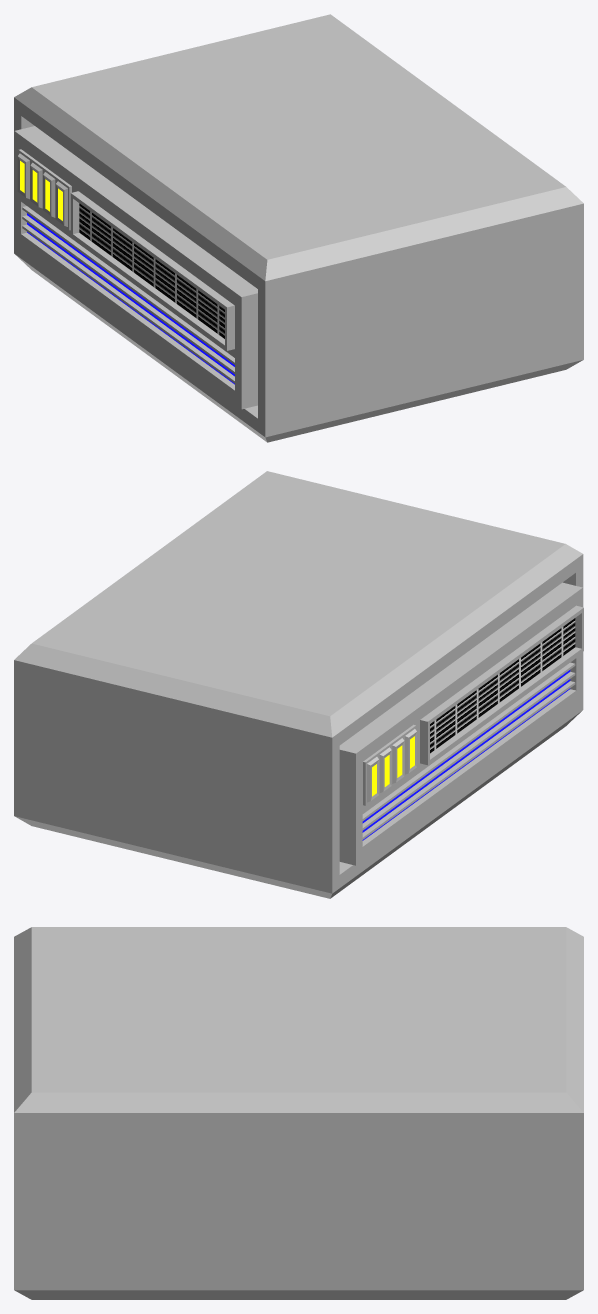
File: Data_Box_01_A.FBX
3 renders of one model, top to bottom at view 1: azimuth 30°, elevation 25°; view 2: azimuth 150°, elevation 25°; view 3: azimuth 270°, elevation 25°, orthographic. The views are drawn at different scales.
Visible parts, largest first — view 1: Data_Box_01_A_LOD0; view 2: Data_Box_01_A_LOD0; view 3: Data_Box_01_A_LOD0.
Part boxes in pixels (x1,y1,x2,y2): Data_Box_01_A_LOD0: (14,14,583,442); Data_Box_01_A_LOD0: (14,471,583,898); Data_Box_01_A_LOD0: (14,927,583,1299).
Size of what is drawn, in the model's own units: 26.53 by 13.71 by 34.16.
